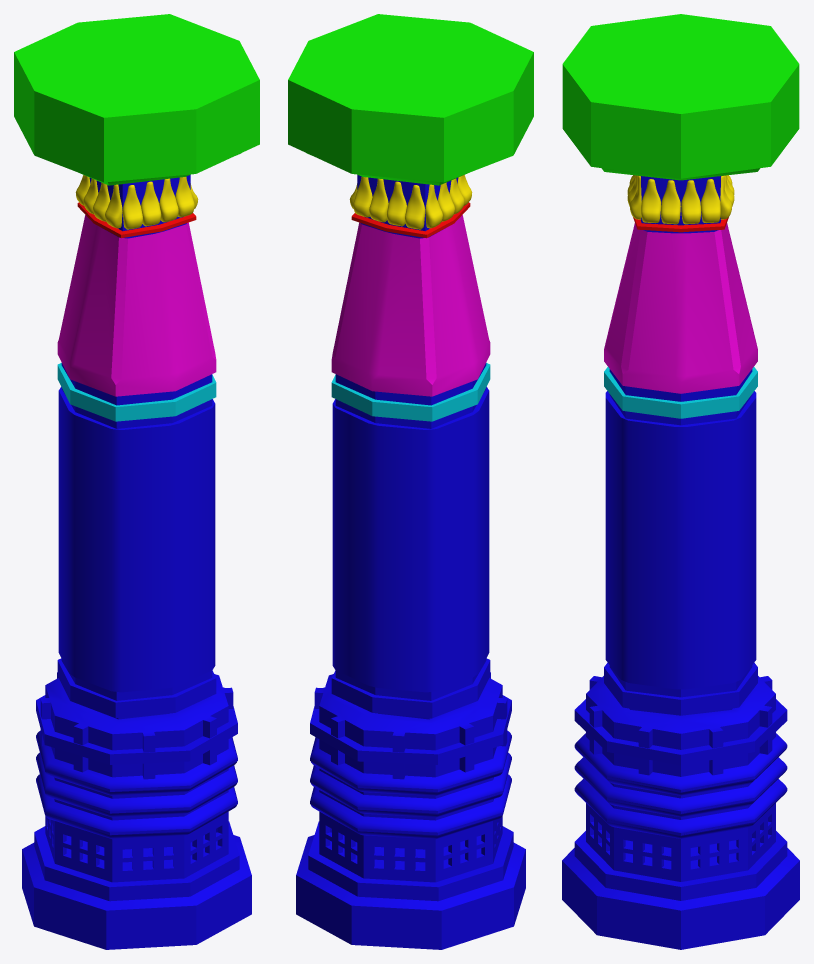
File: colonne.FBX
3 views of the same model, side by side, from view 1: azimuth 30°, elevation 25°; view 2: azimuth 150°, elevation 25°; view 3: azimuth 270°, elevation 25° (orthographic).
Visible parts, largest first — view 1: Cylinder001; view 2: Cylinder001; view 3: Cylinder001.
Boxes of the visible parts, x1,y1,x2,y2 form: Cylinder001: (14,14,259,949); Cylinder001: (288,14,533,949); Cylinder001: (562,14,799,949).
Size of the model in its own units: 132 by 512 by 132.
